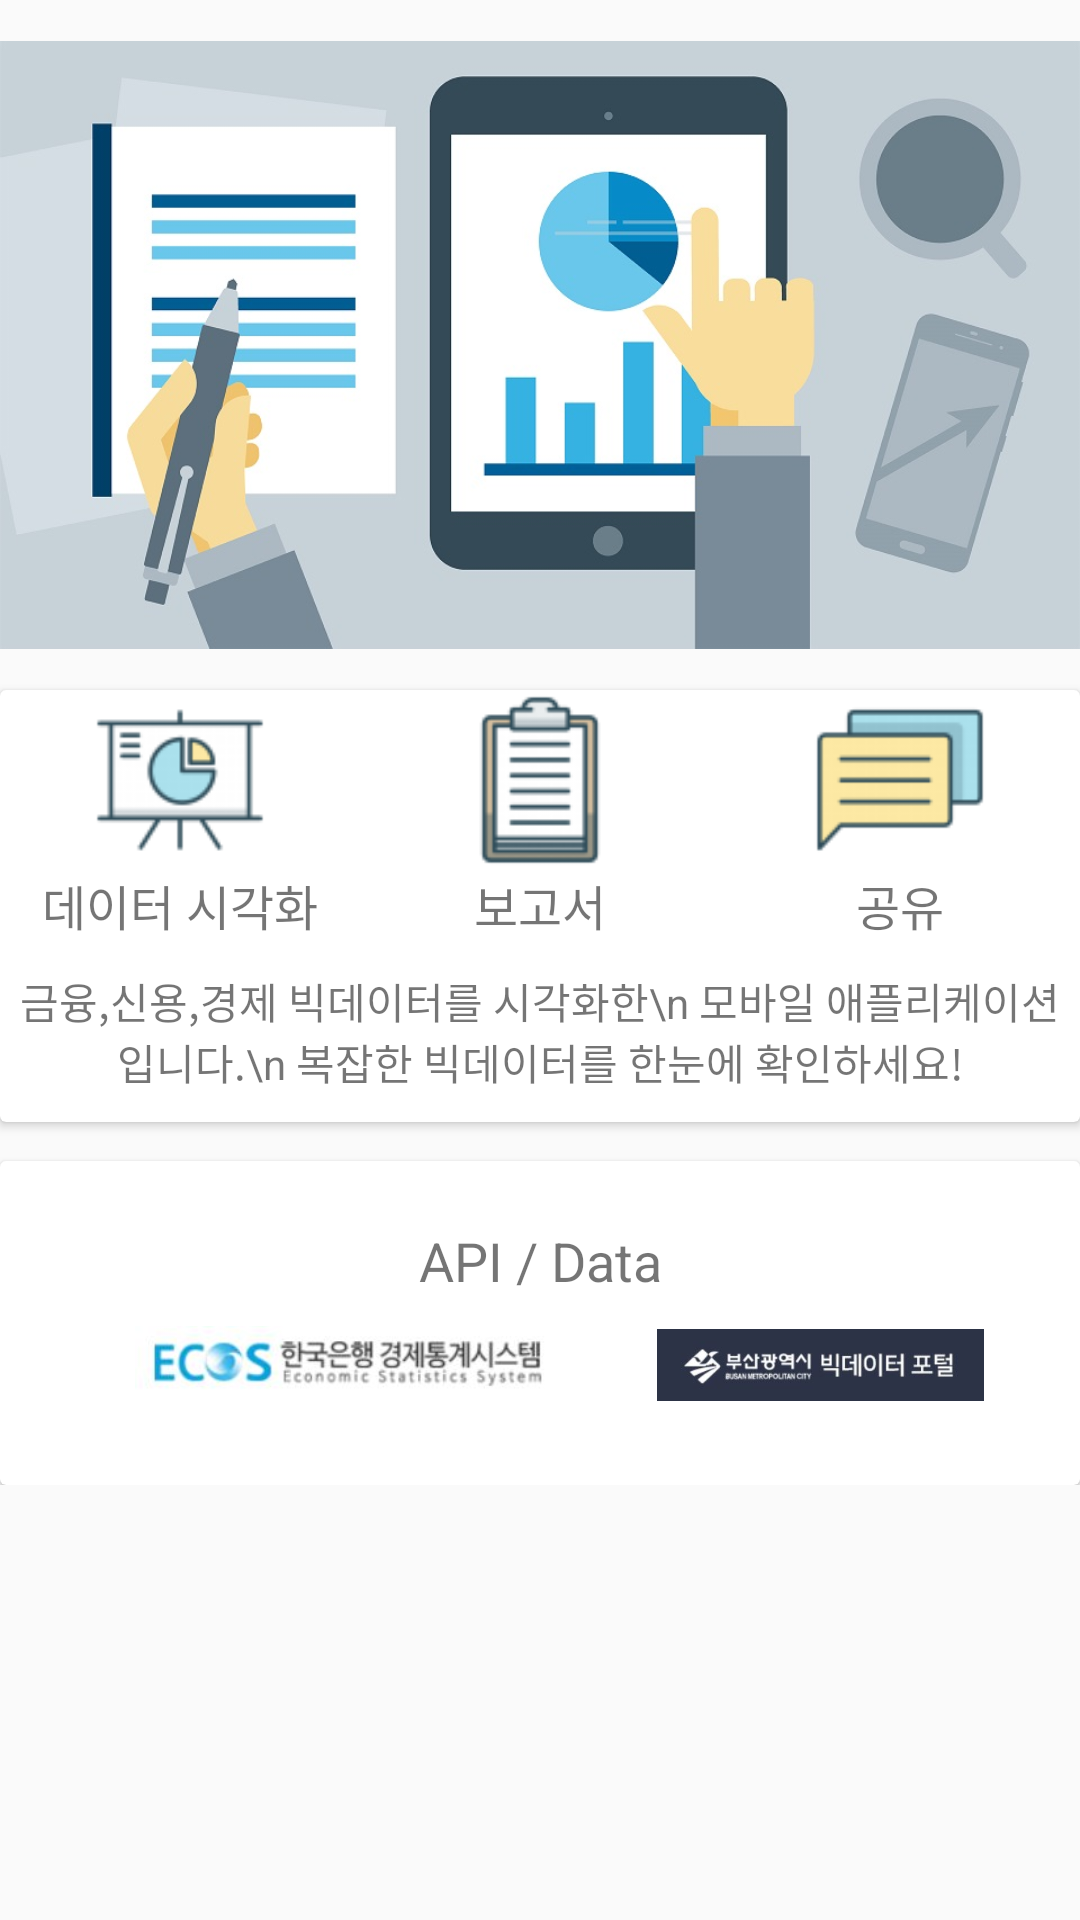

Where icons sit on this 1080px×1920px app screen, as (x1, y1, x2, y2):
chart: (97, 709, 263, 851)
